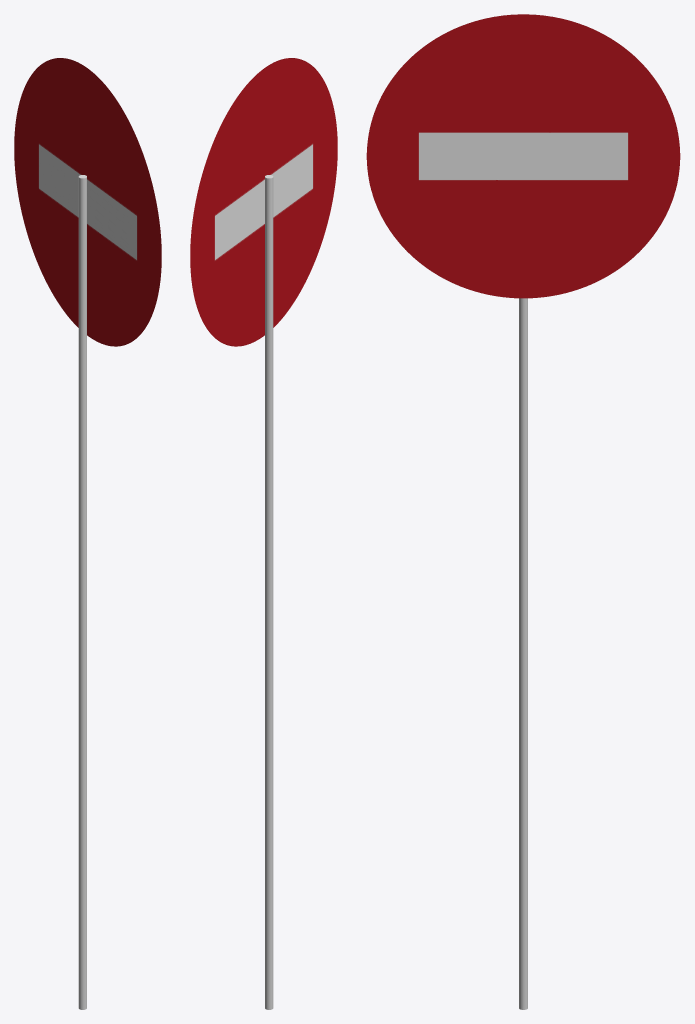
The model's file is dilarang-masuk.fbx.
3 views of the same model, side by side, from view 1: azimuth 30°, elevation 25°; view 2: azimuth 150°, elevation 25°; view 3: azimuth 270°, elevation 25° (orthographic). The views are drawn at different scales.
Parts seen in each view (by area): view 1: dilarang-masuk, Cylinder; view 2: dilarang-masuk, Cylinder; view 3: dilarang-masuk, Cylinder.
Boxes of the visible parts, x1,y1,x2,y2 form: dilarang-masuk: [14, 58, 161, 346]; Cylinder: [78, 175, 86, 1009]; dilarang-masuk: [190, 58, 337, 346]; Cylinder: [265, 175, 273, 1009]; dilarang-masuk: [366, 14, 680, 298]; Cylinder: [519, 298, 527, 1009].
Bounding box in the file's own units: 3.43 × 350 × 100.
